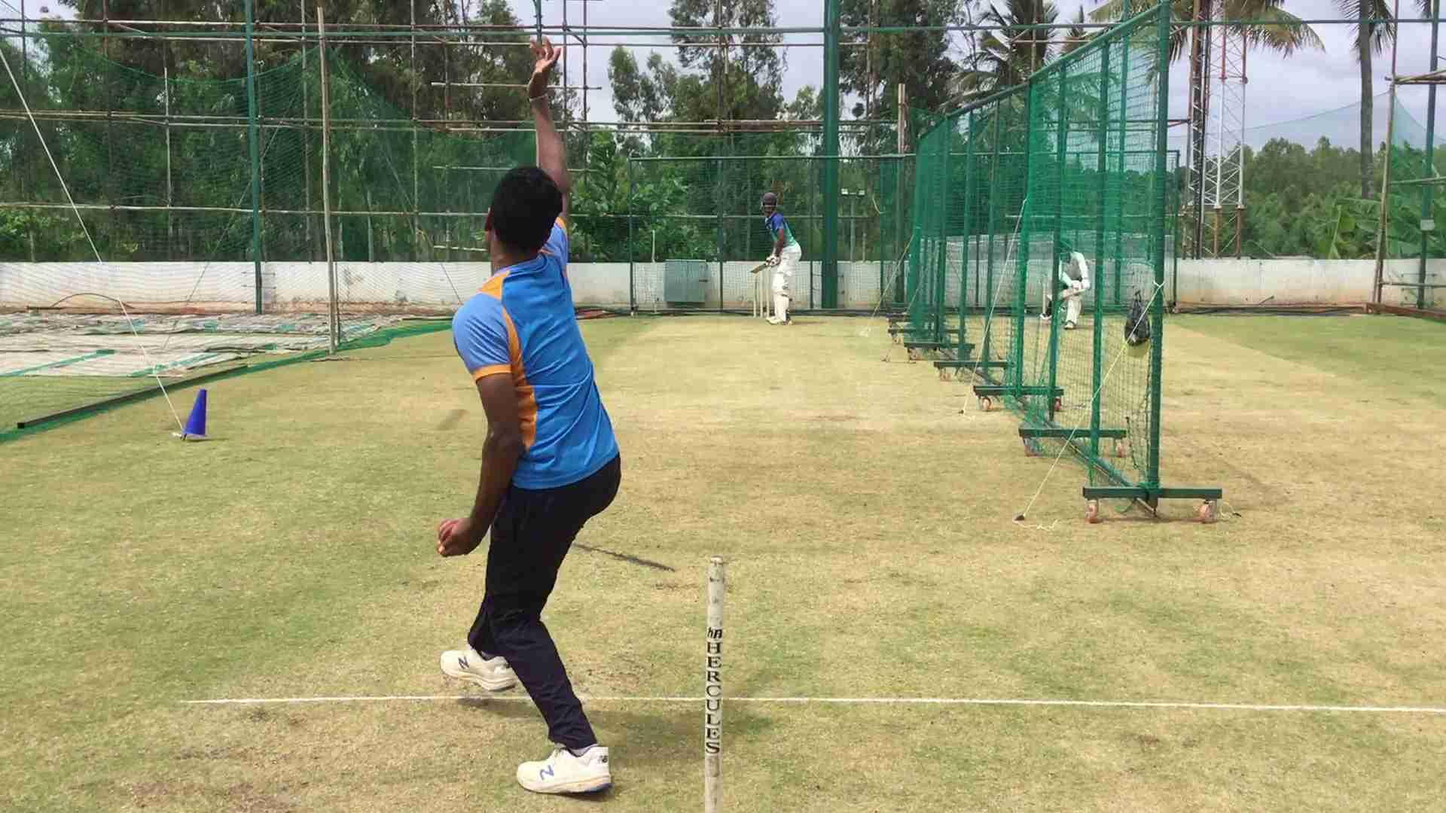batsman: (755, 188, 807, 332)
